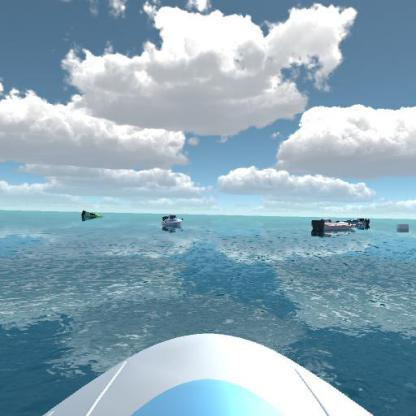usv0: (78, 208, 106, 224)
usv1: (158, 211, 186, 232), (348, 210, 373, 230)
usv3: (307, 214, 358, 239)
